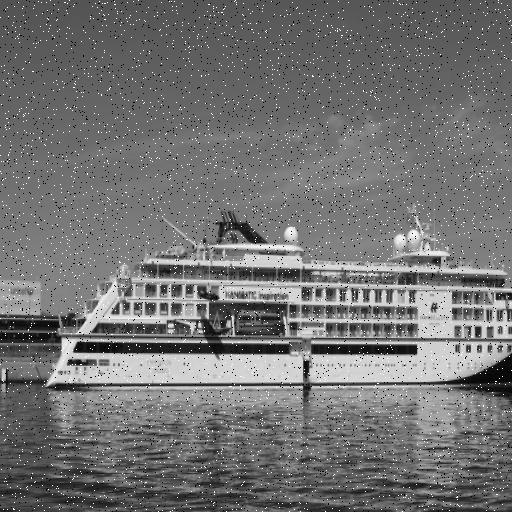cruises: (45, 212, 512, 398)
